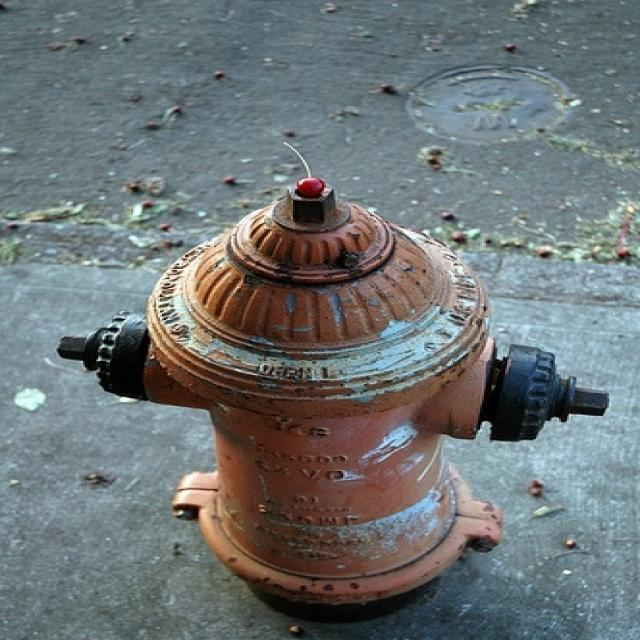fire_hydrant: (103, 129, 608, 622)
